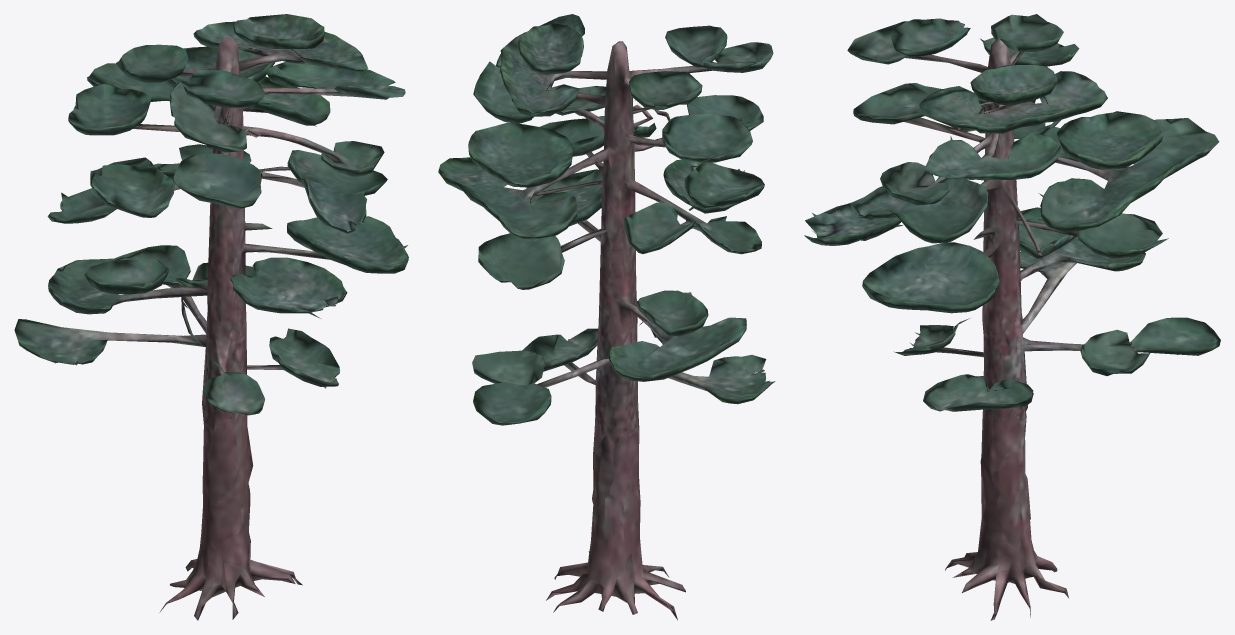
File: pine_tall.lod1.glb
3 renders of one model, left to right at view 1: azimuth 30°, elevation 25°; view 2: azimuth 150°, elevation 25°; view 3: azimuth 270°, elevation 25°, orthographic. The views are drawn at different scales.
Parts seen in each view (by area): view 1: tripo_node_d5c151a4-0429-41d9-8240-1dfca240ee28; view 2: tripo_node_d5c151a4-0429-41d9-8240-1dfca240ee28; view 3: tripo_node_d5c151a4-0429-41d9-8240-1dfca240ee28.
Boxes of the visible parts, <box> form: tripo_node_d5c151a4-0429-41d9-8240-1dfca240ee28: <box>14,14,408,620</box>; tripo_node_d5c151a4-0429-41d9-8240-1dfca240ee28: <box>438,14,775,620</box>; tripo_node_d5c151a4-0429-41d9-8240-1dfca240ee28: <box>804,14,1220,620</box>.
Size of the model in its own units: 0.596 by 1 by 0.6822.
1 material, 1 textured.
